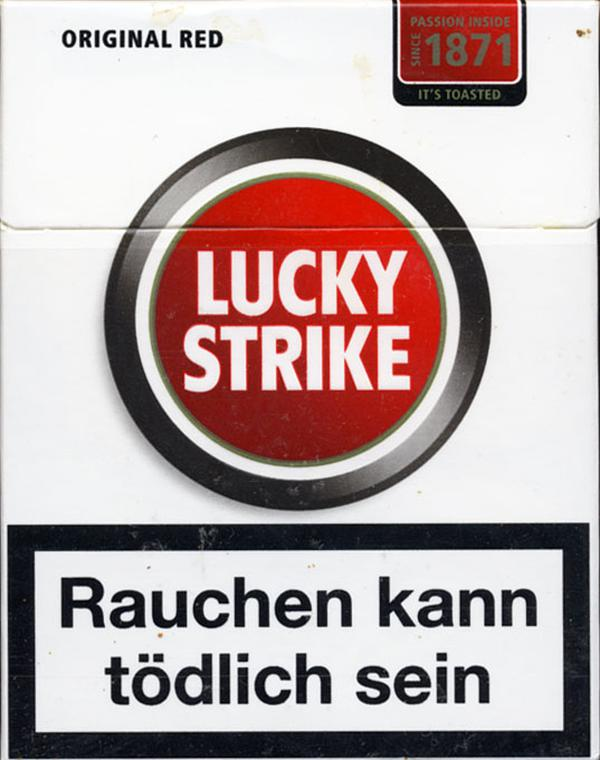lucky_strike_red: (5, 1, 590, 759)
